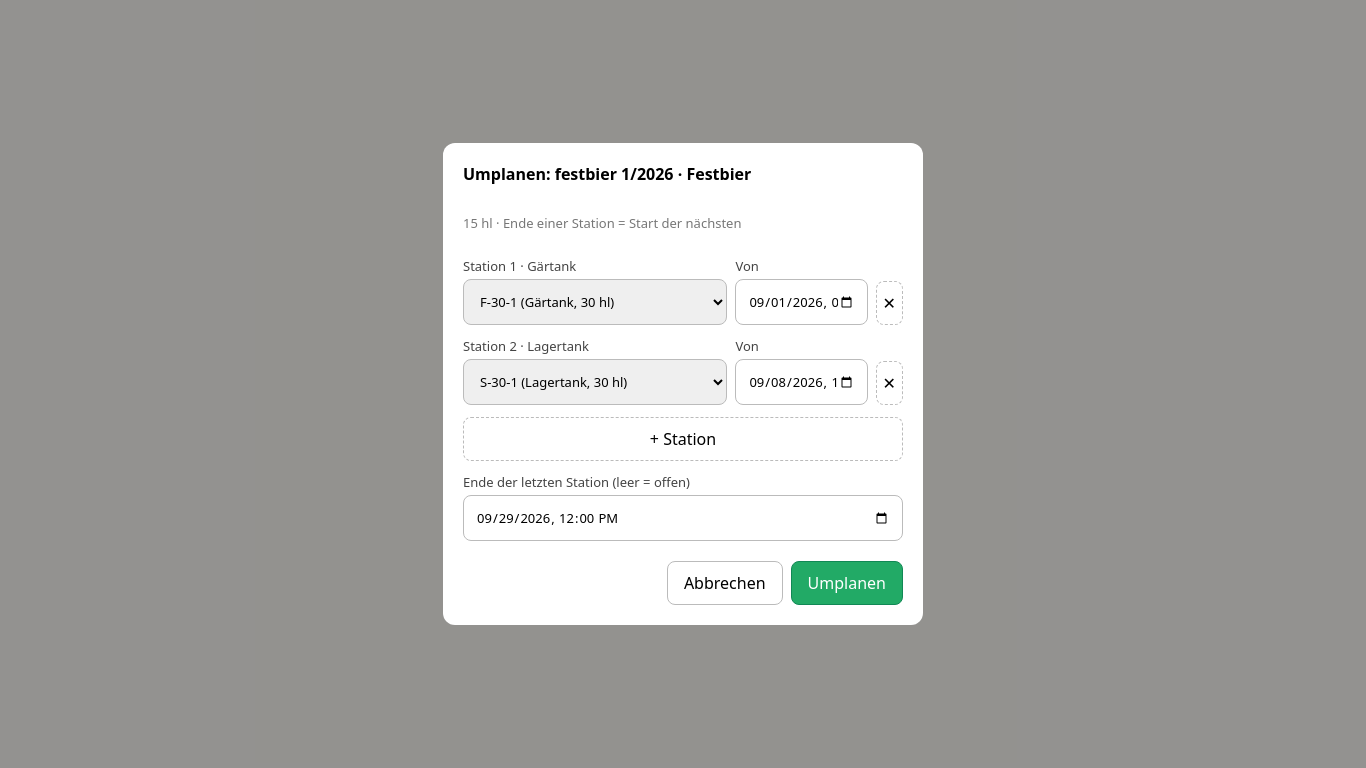
it: ReplanDialog (Tankkette) › sperrt Absenden, wenn die Stationen nicht aufeinander folgen
The width and height of the screenshot is (1366, 768).
Replace the text in the field named "Von 2" with "2026-08-30T12:00" at (802, 382), box [735,359,868,405]
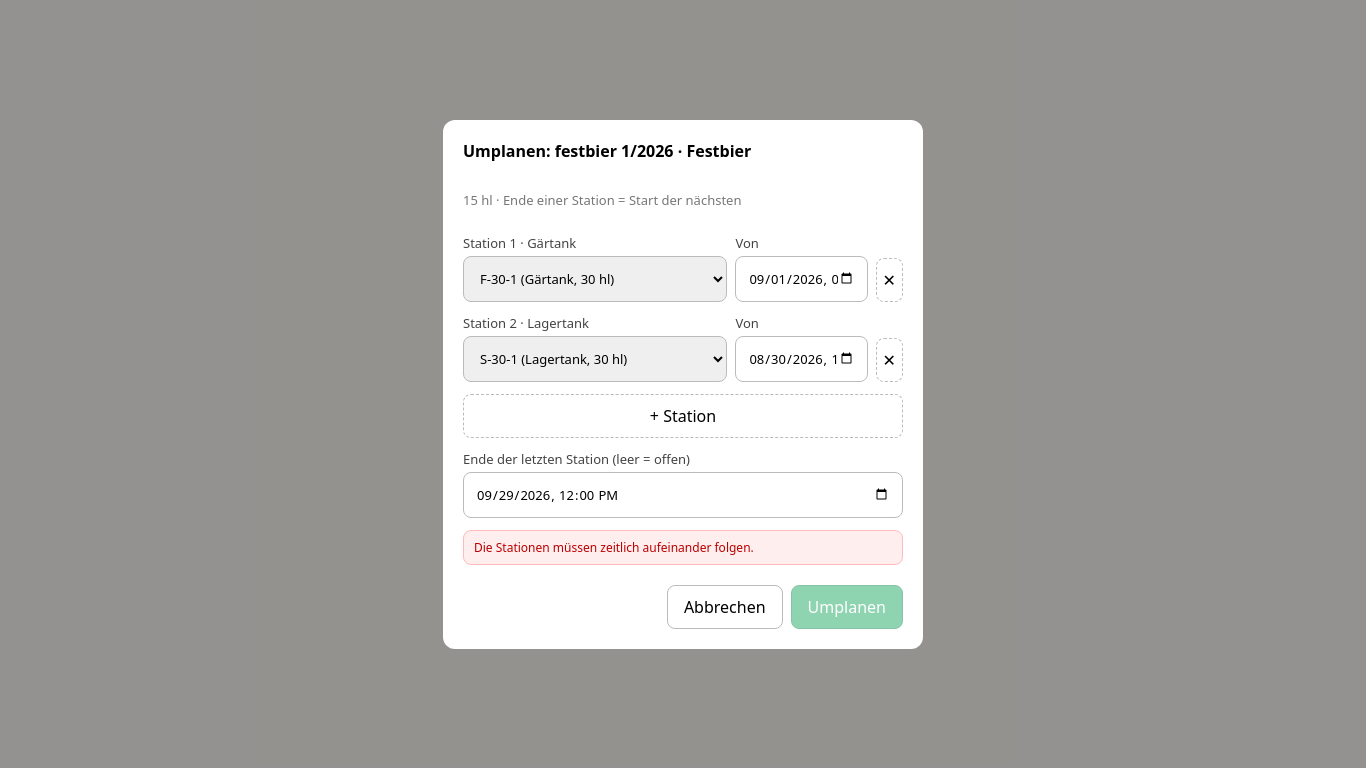
expect the text "Die Stationen müssen zeitlich aufeinander folgen." is shown: met, box [463,530,903,564]
expect the button "Umplanen" is disabled: met, box [791,584,903,628]
